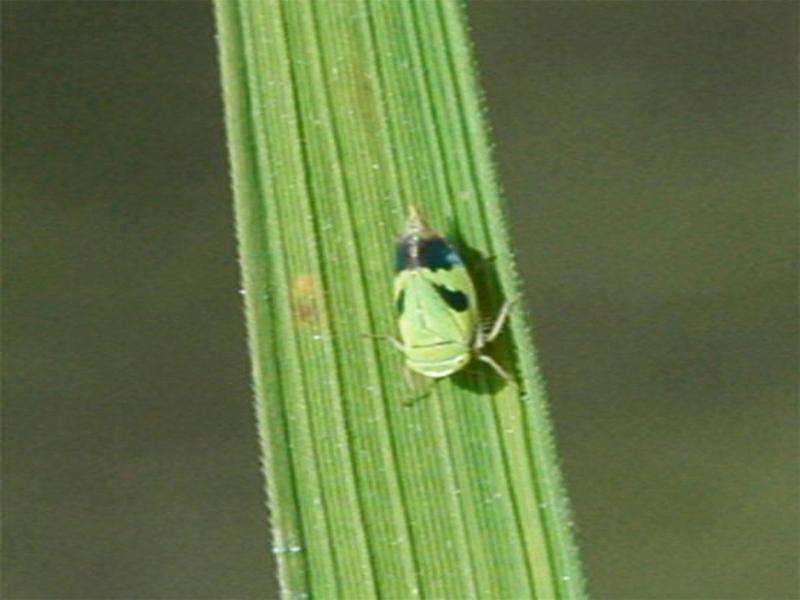Whorl_maggot: (367, 204, 514, 391)
